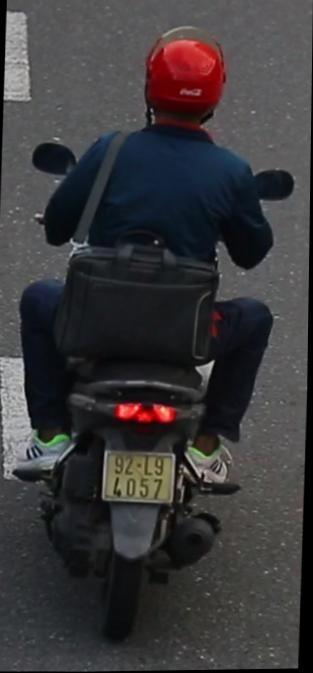LP: (99, 442, 179, 508)
helmet: (138, 31, 230, 140)
